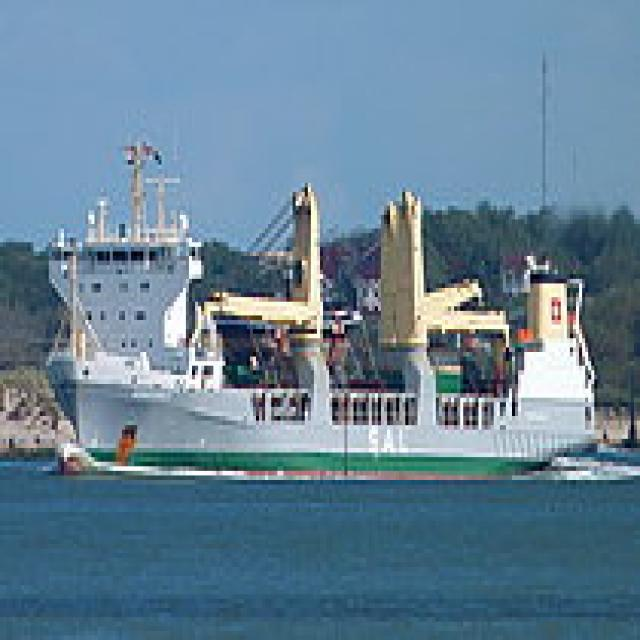Ship: (35, 120, 611, 486)
